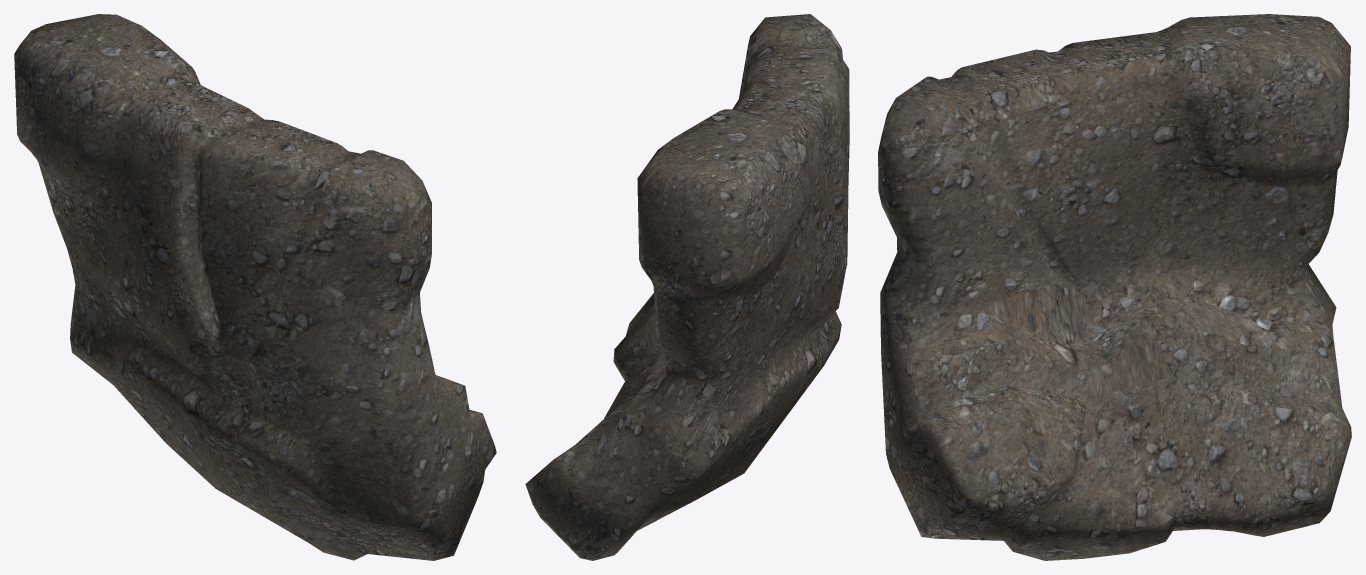
Rendered from rocks_cave_corner.dae.
3 views of the same model, side by side, from view 1: azimuth 30°, elevation 25°; view 2: azimuth 150°, elevation 25°; view 3: azimuth 270°, elevation 25° (orthographic). The views are drawn at different scales.
Parts seen in each view (by area): view 1: corner_piece; view 2: corner_piece; view 3: corner_piece.
Part boxes in pixels (x1,y1,x2,y2): corner_piece: (14, 14, 496, 560); corner_piece: (525, 14, 849, 560); corner_piece: (878, 14, 1351, 560).
Size of what is drawn, in the model's own units: 2.92 by 4.39 by 4.05.
Materials: 1 (1 with a texture image).
